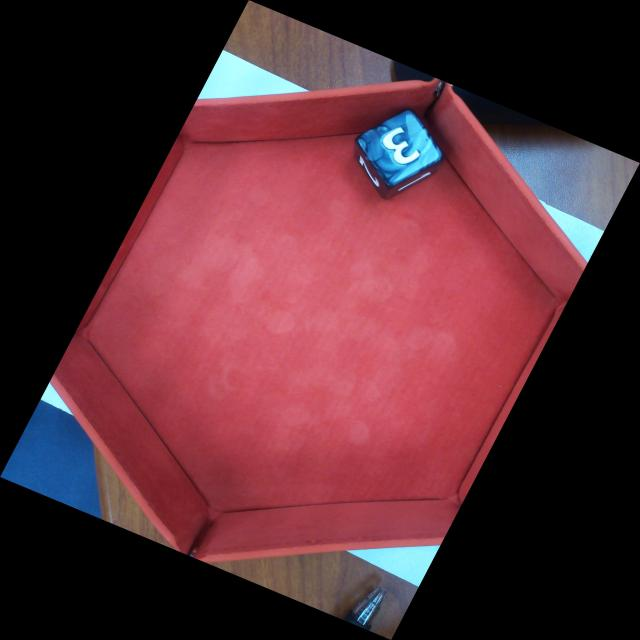dice: (356, 113, 446, 192)
